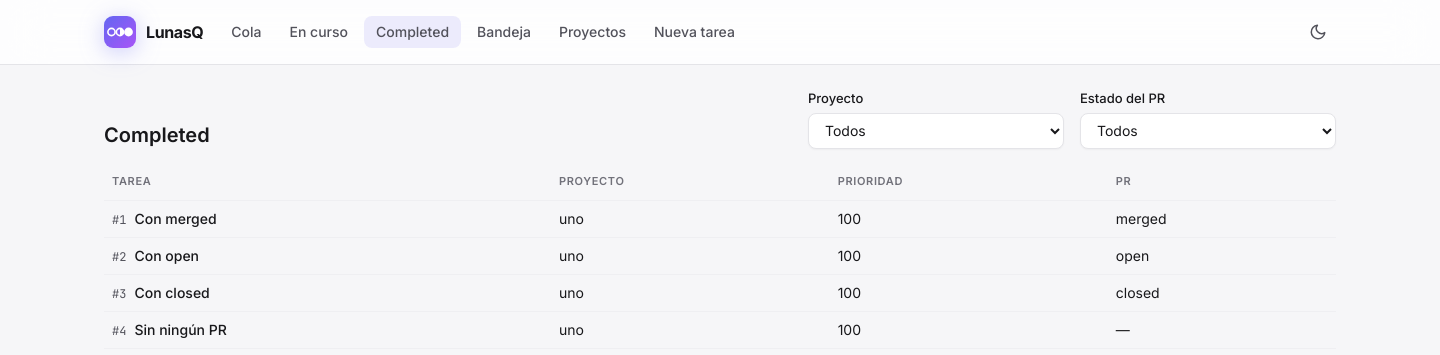
Test: pestaña Completed › filtro Estado del PR › Sin PR muestra solo las tareas completadas sin estado de PR
Expected: the link "Con merged" is shown, [134,209,217,229]
Select "Sin PR" in the dropdown labelled "Estado del PR": [1208, 130] box [1080,112,1336,148]
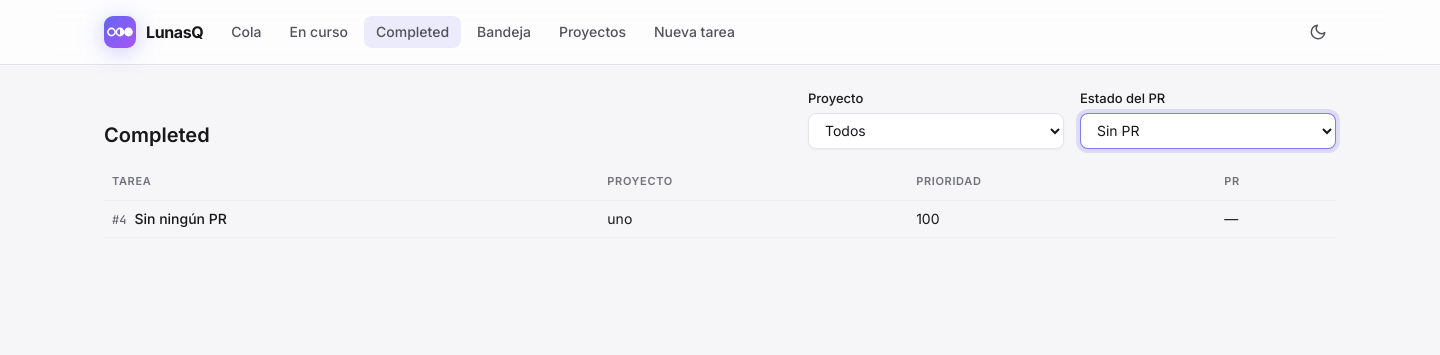
Expected: the link "Sin ningún PR" is shown, [134,209,227,229]
Expected: the link "Con merged" is gone
Expected: the link "Con open" is gone
